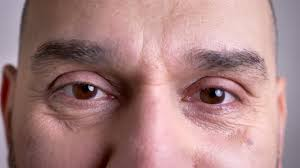e.brown: (70, 83, 100, 100)
